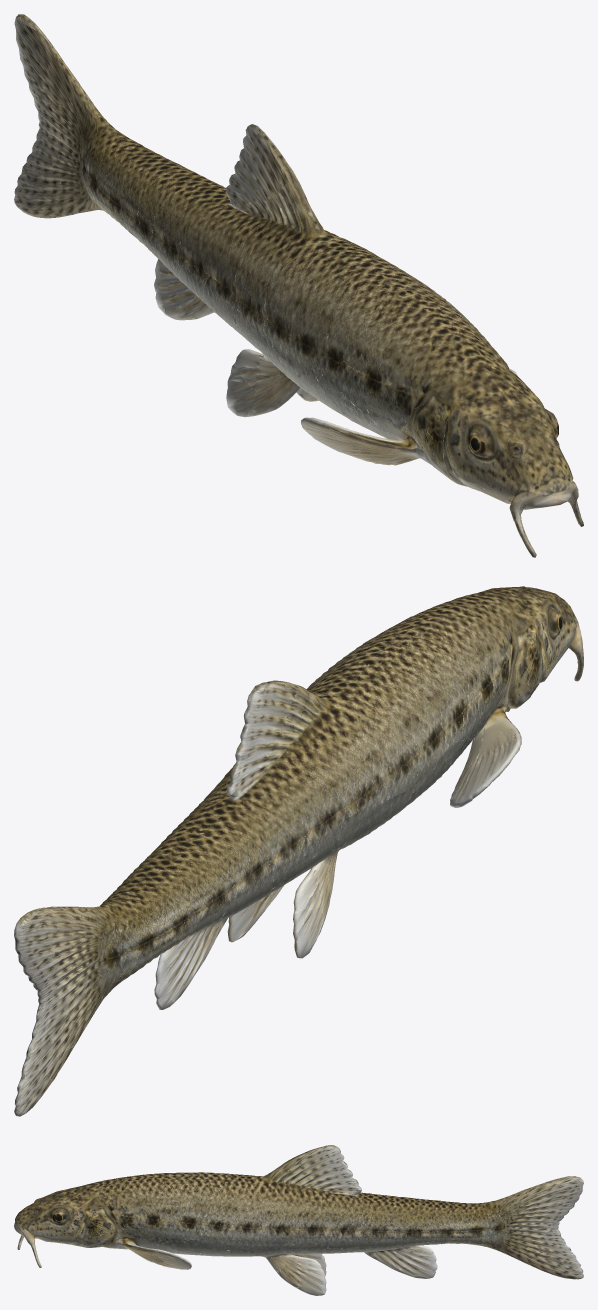
The model's file is kielb.glb.
The picture shows the model from 3 angles, top to bottom: view 1: azimuth 30°, elevation 25°; view 2: azimuth 150°, elevation 25°; view 3: azimuth 270°, elevation 25°; orthographic projection. The views are drawn at different scales.
Visible parts, largest first — view 1: Mesh_0; view 2: Mesh_0; view 3: Mesh_0.
Part boxes in pixels (x1=…): Mesh_0: x1=14, y1=14, x2=583, y2=557; Mesh_0: x1=14, y1=586, x2=583, y2=1116; Mesh_0: x1=14, y1=1145, x2=583, y2=1295.
Size of the model in its own units: 0.4134 by 0.5245 by 1.9.
1 material, 1 textured.
